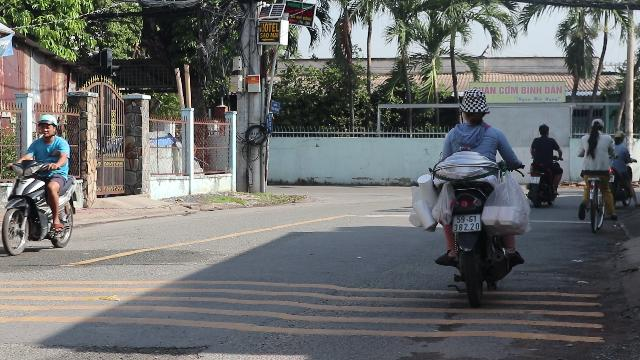helmet: (36, 113, 58, 137)
licenseplate: (454, 216, 481, 232)
motorcyclist: (407, 80, 531, 298), (0, 112, 80, 254)
nohelmet: (458, 88, 488, 124)
